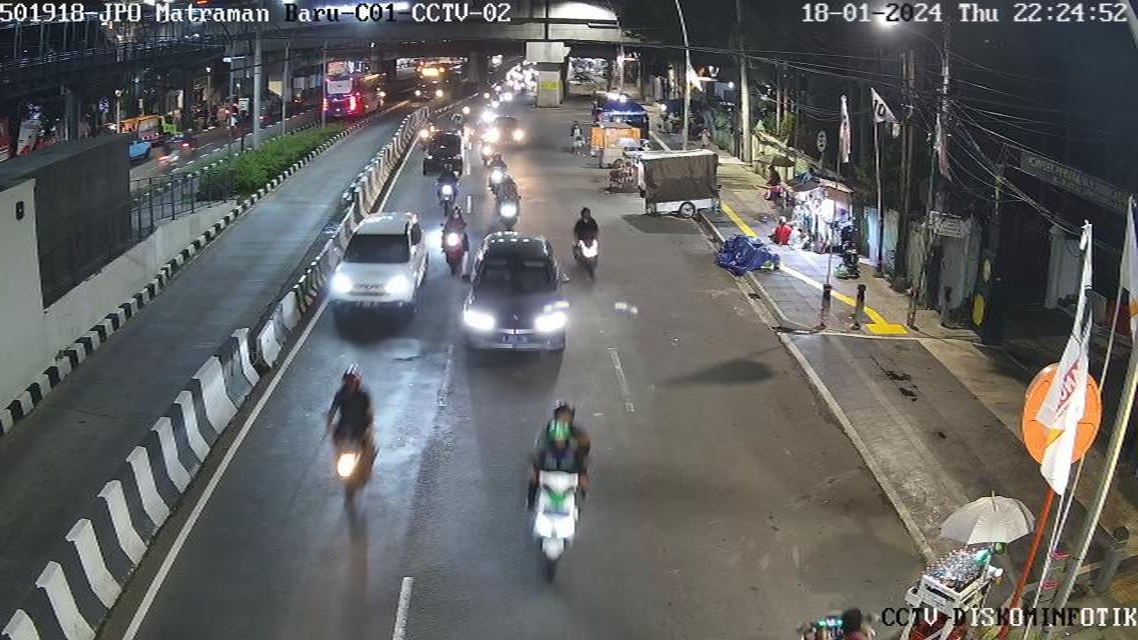Gerobak: (642, 144, 733, 202)
